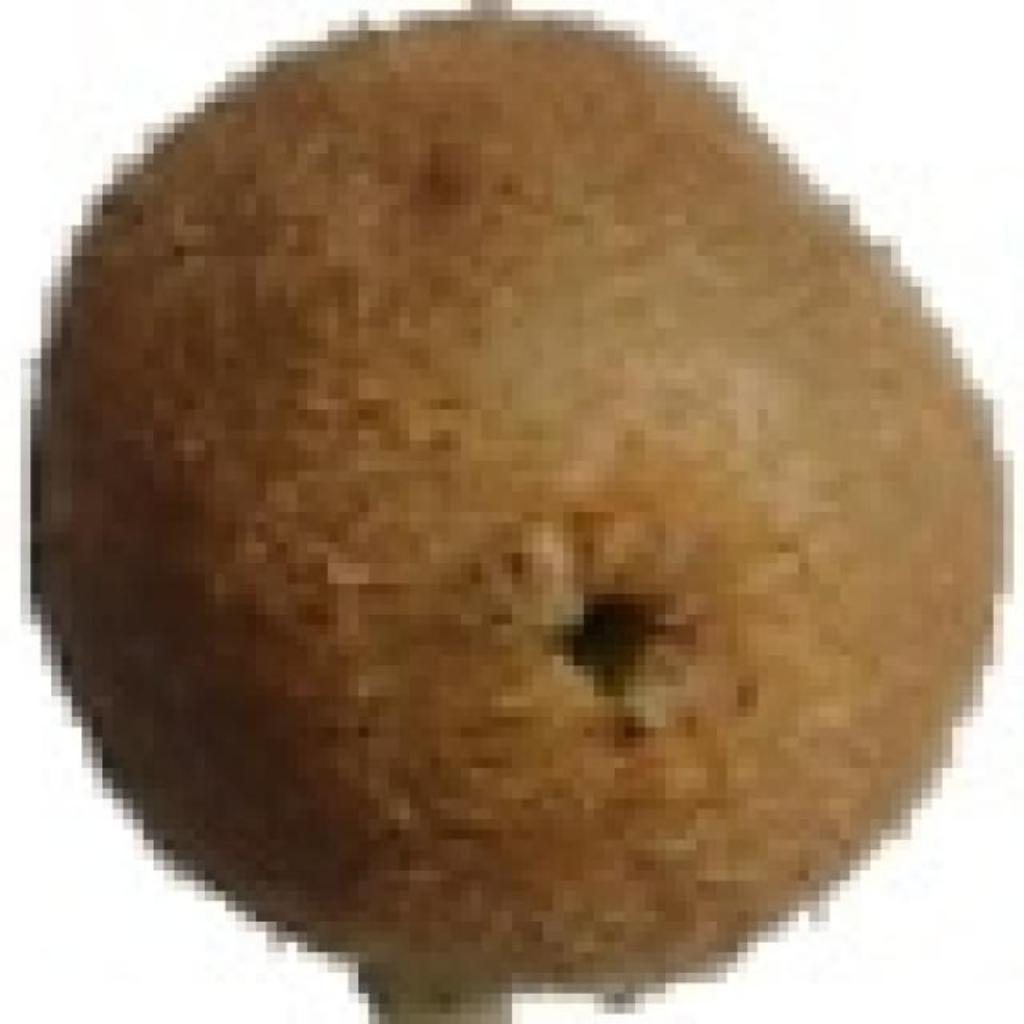kiwi: (36, 16, 1004, 1017)
